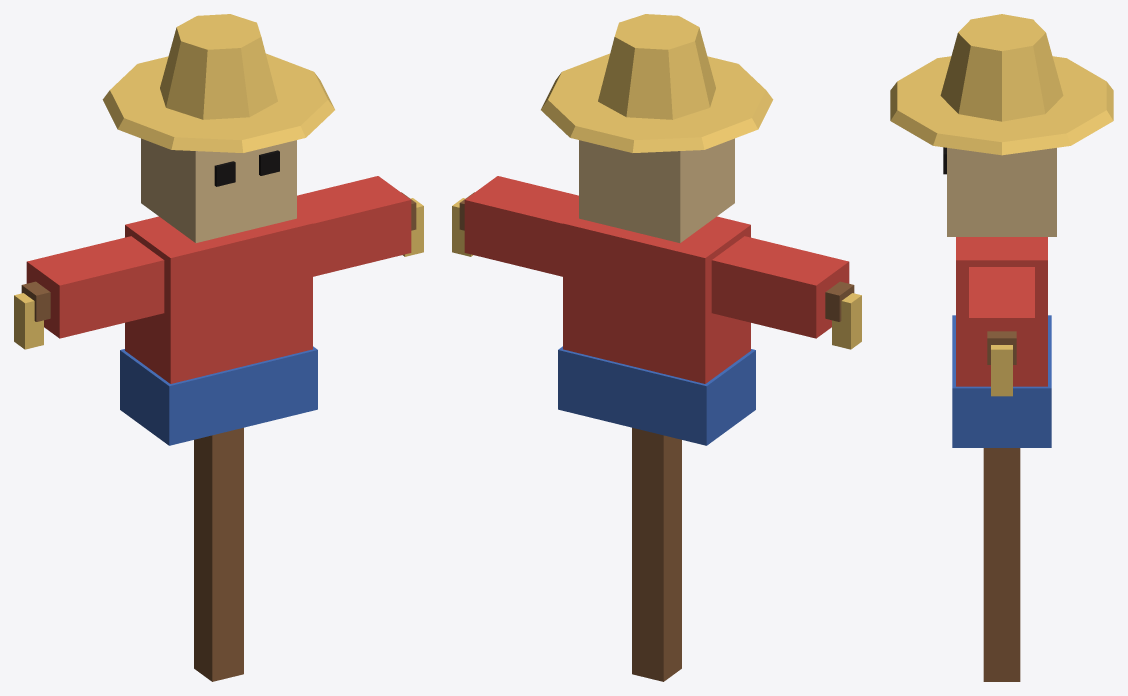
The model's file is scarecrow.obj.
3 renders of one model, left to right at view 1: azimuth 30°, elevation 25°; view 2: azimuth 150°, elevation 25°; view 3: azimuth 270°, elevation 25°, orthographic.
Parts seen in each view (by area): view 1: body, post; view 2: body, post; view 3: body, post.
Boxes of the visible parts, x1,y1,x2,y2 form: body: (14,14,423,445); post: (194,427,243,681); body: (452,14,861,445); post: (632,427,681,681); body: (890,14,1113,447); post: (983,448,1020,681).
Size of the model in its own units: 1.26 by 1.93 by 0.6086.
